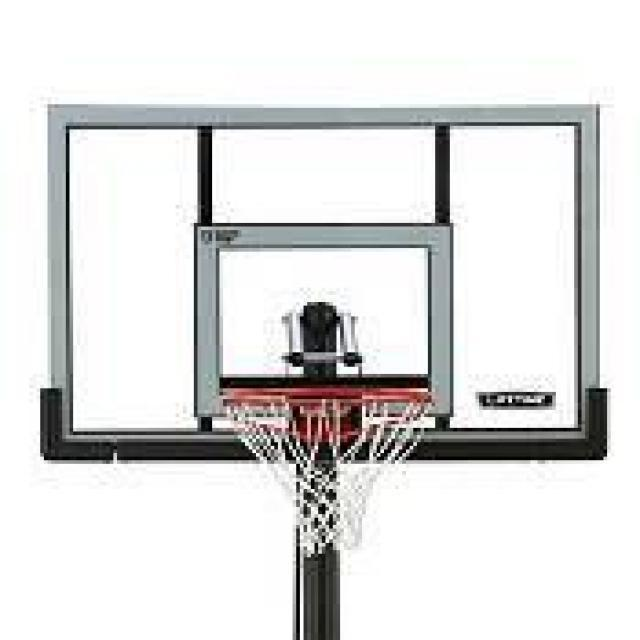hoop: (220, 388, 434, 558)
